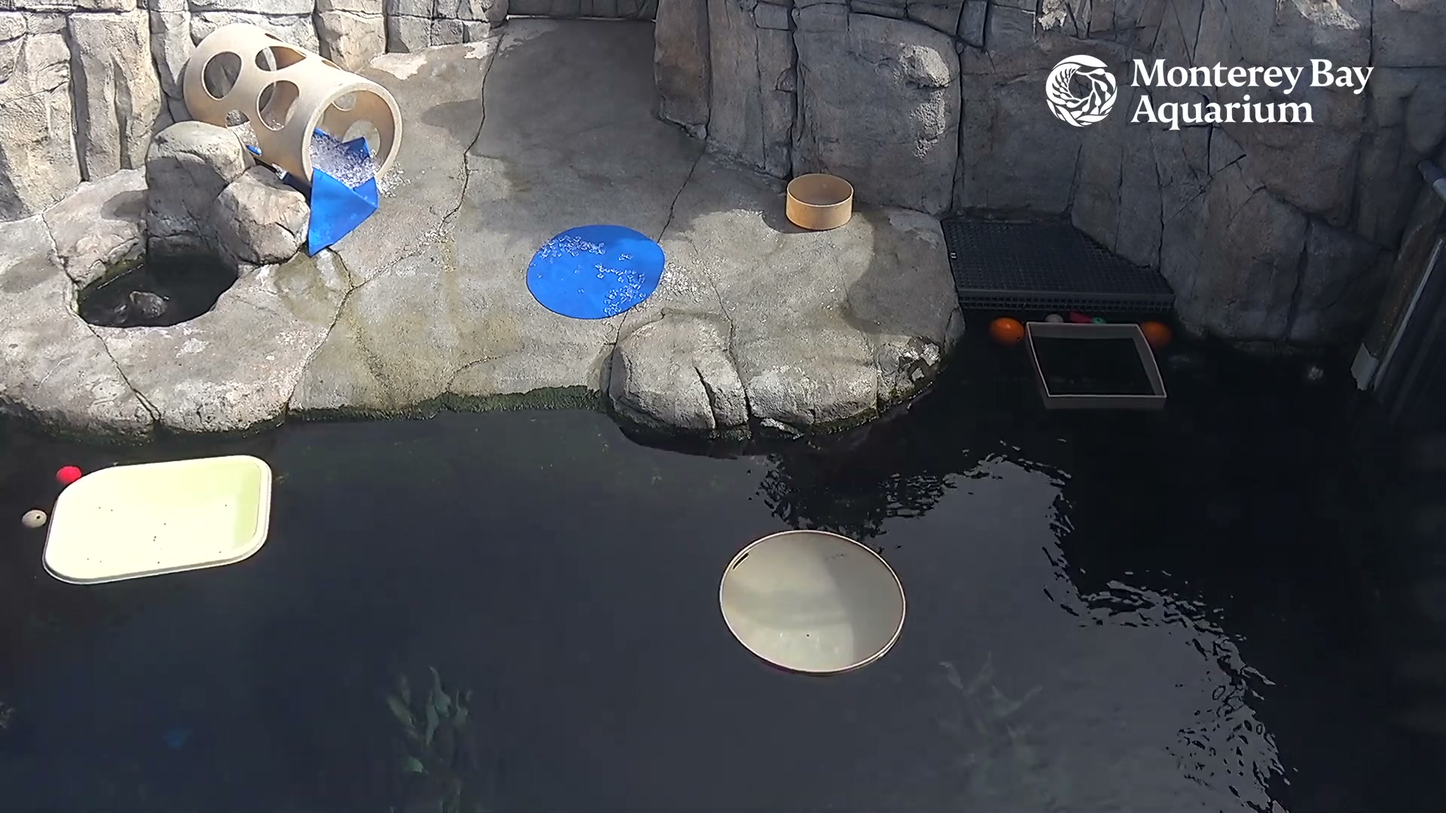Southern Sea Otter: (95, 280, 194, 331)
